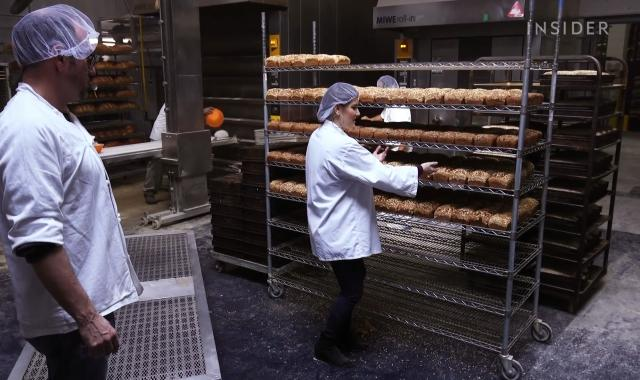hairnet: (4, 2, 99, 65), (316, 83, 358, 120), (376, 74, 399, 88)
